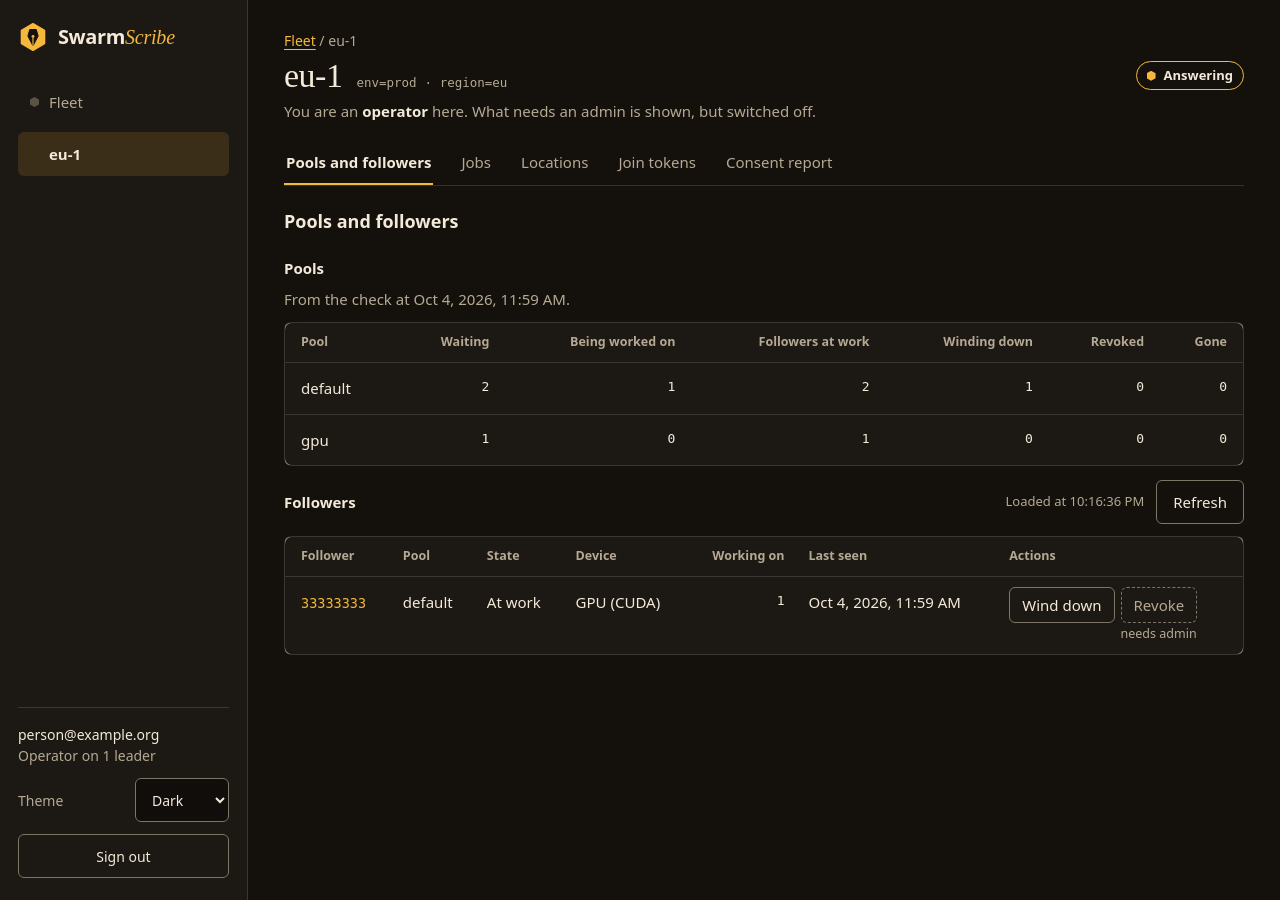
pools and followers tab › shows revoke disabled with the role it needs for an operator, and announces a failed drain
Expected: the button with aria-label "Revoke follower 33333333" is disabled, left=1120, top=587, right=1197, bottom=623
Click the button with aria-label "Wind down follower 33333333". click: (1062, 605)
box: left=1009, top=587, right=1114, bottom=623
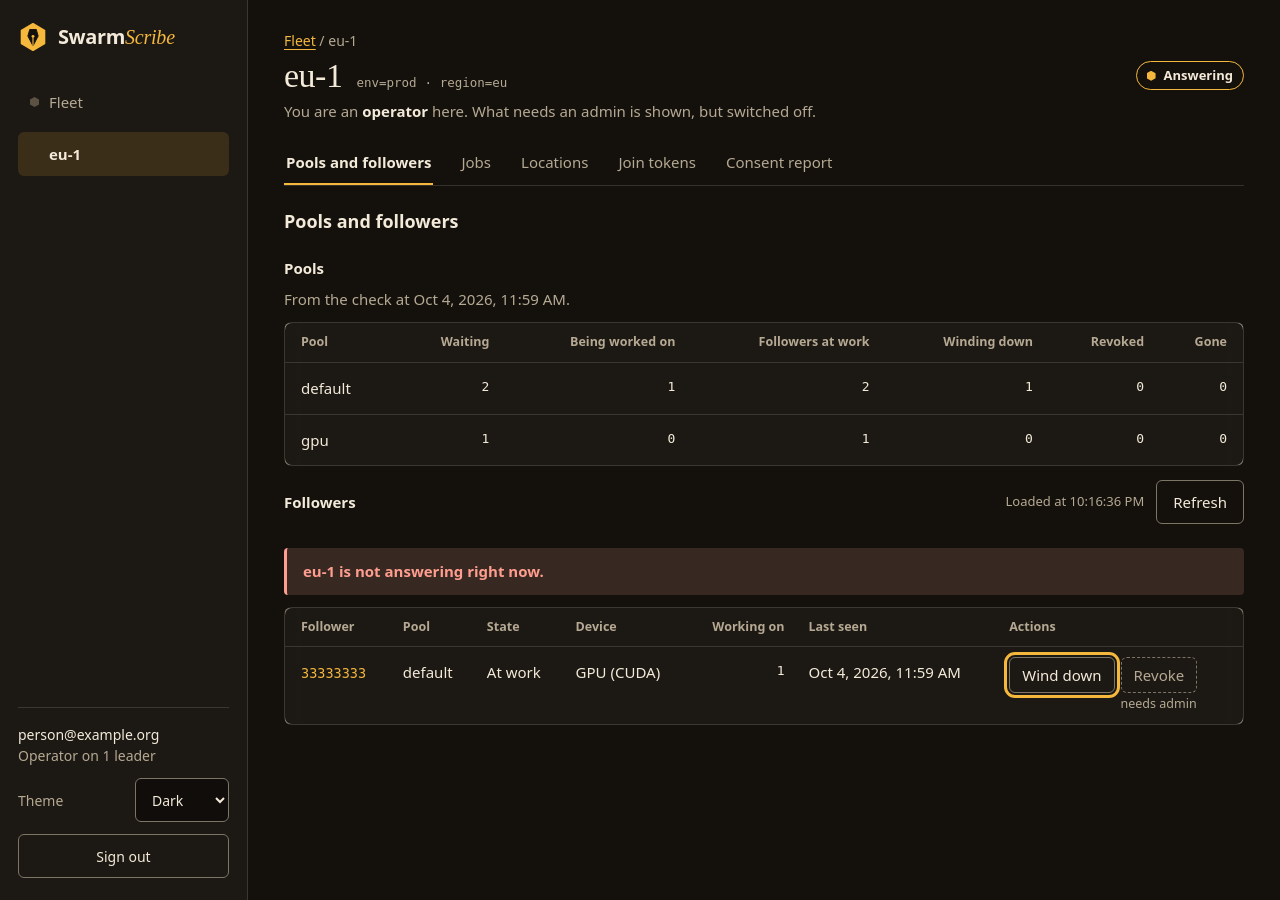
Expected: the message "eu-1 is not answering right now." is shown, left=284, top=548, right=1244, bottom=594
